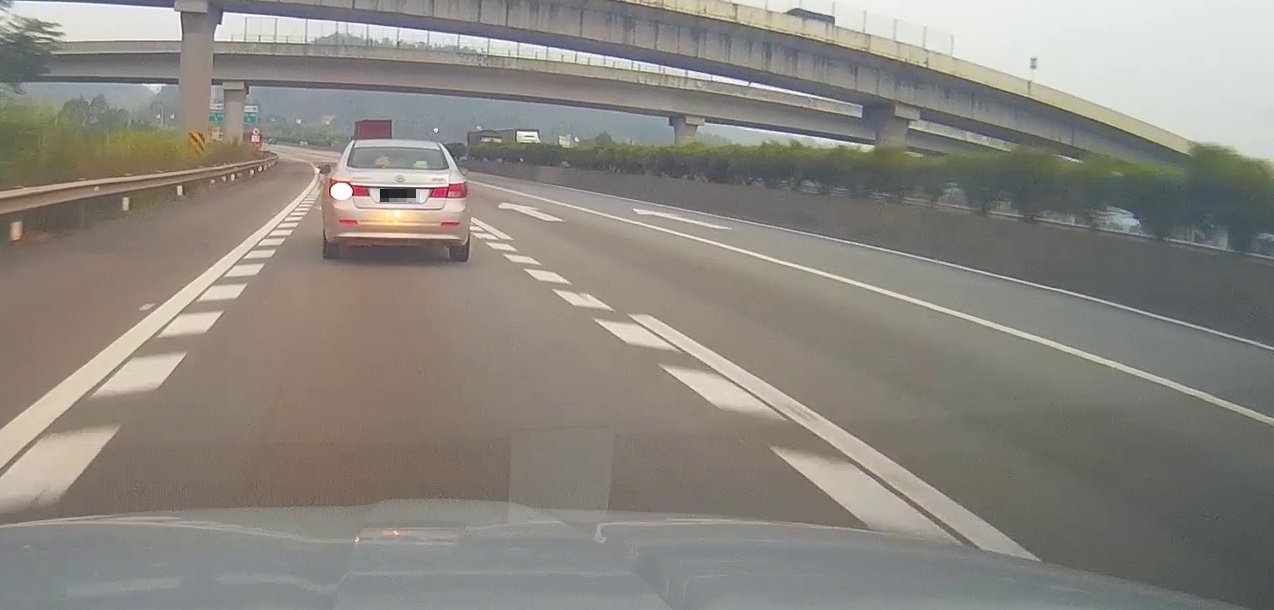L_light: (330, 178, 370, 197)
R_light: (429, 181, 467, 198)
T_light: (389, 148, 404, 151)
day-left: (322, 142, 469, 261)
plate_1: (380, 189, 419, 202)
